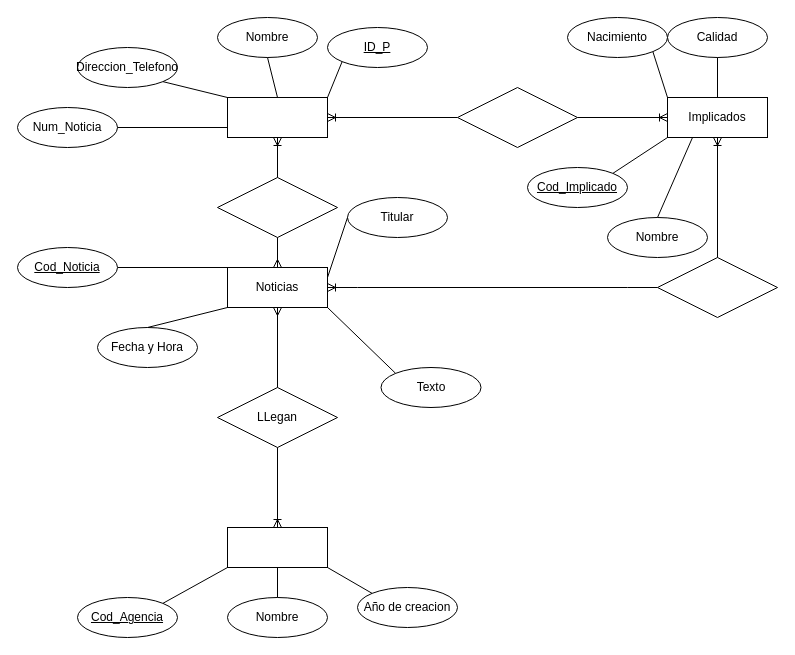
Image size: 795x655. Some labels were removed from this diagram. Each missing label, with the centre of its shape:
Agencias: pixel 277 547
Cubren: pixel 277 207
Entrevistan: pixel 517 117
Periodistas: pixel 277 117
Puede haber: pixel 717 287
